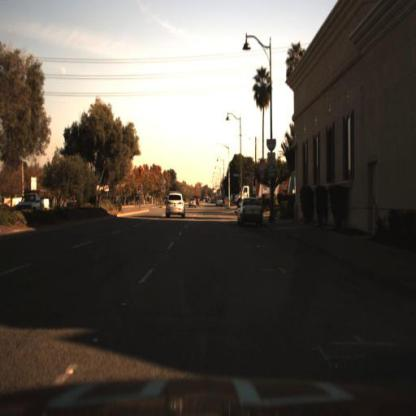car: (14, 184, 53, 222), (237, 198, 265, 231), (160, 190, 188, 222), (186, 194, 203, 215)
truck: (235, 173, 298, 199)
